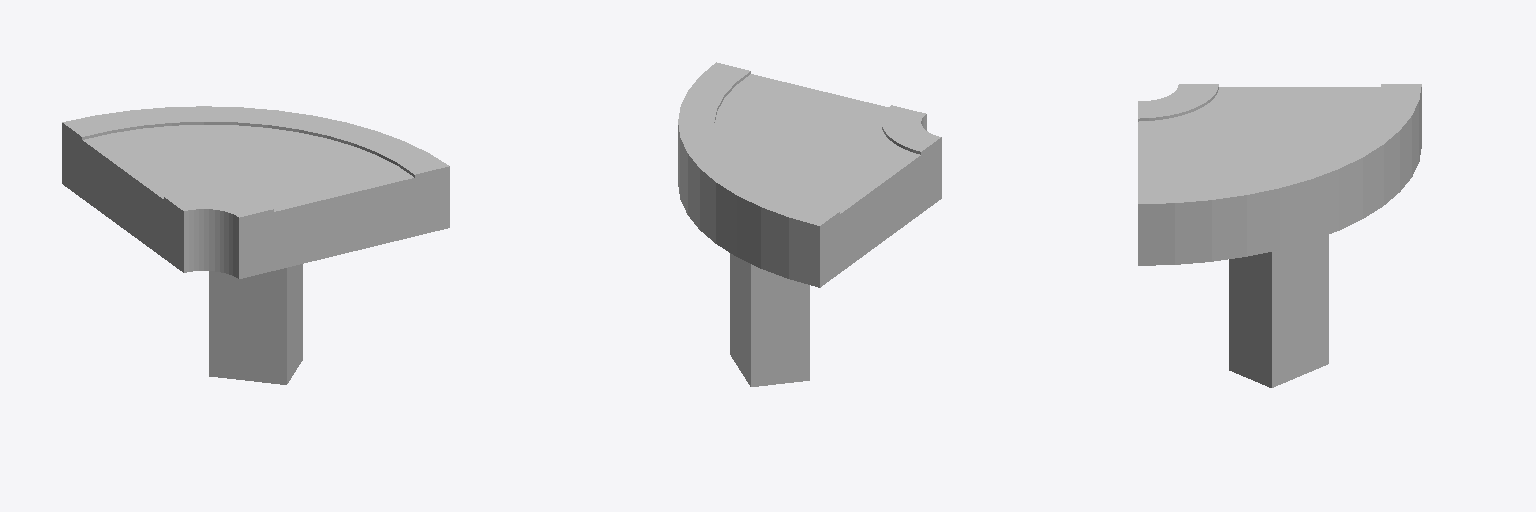
File: tile225.obj
3 renders of one model, left to right at view 1: azimuth 30°, elevation 25°; view 2: azimuth 150°, elevation 25°; view 3: azimuth 270°, elevation 25°, orthographic.
Parts seen in each view (by area): view 1: tile225; view 2: tile225; view 3: tile225.
Boxes of the visible parts, <box> form: tile225: <box>62,106,449,384</box>; tile225: <box>678,62,941,386</box>; tile225: <box>1138,84,1421,387</box>.
Size of the model in its own units: 0.875 by 0.76 by 0.875.